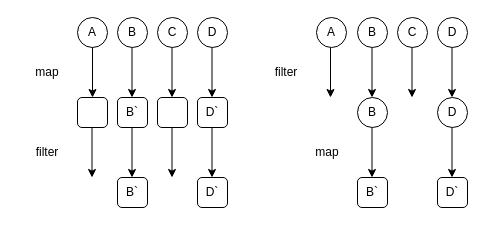
The diagram is 485 pixels wide and 225 high, and some of its shapes have lost their labels. The shapes that lost their labels are listed below. From the top down, each one's centre as x and y in pixels, then its label:
At point 92,112: "A`".
At point 172,112: "C`".
